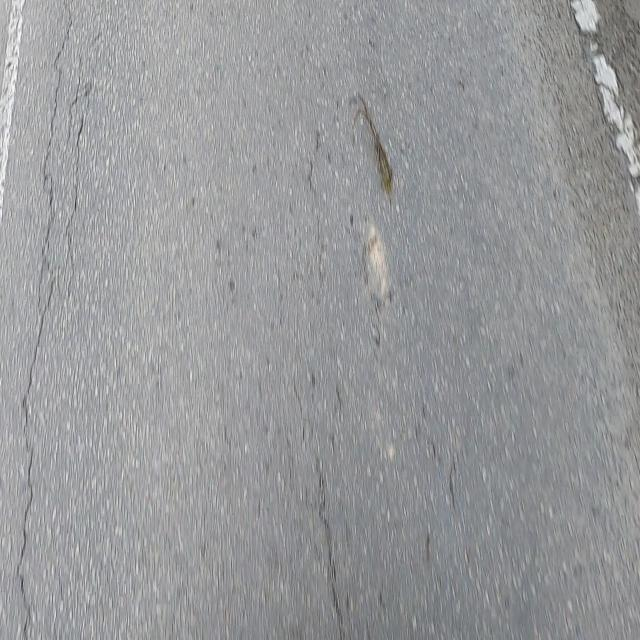Retak-Memanjang: (16, 15, 72, 640), (65, 73, 100, 297), (314, 469, 340, 624)
